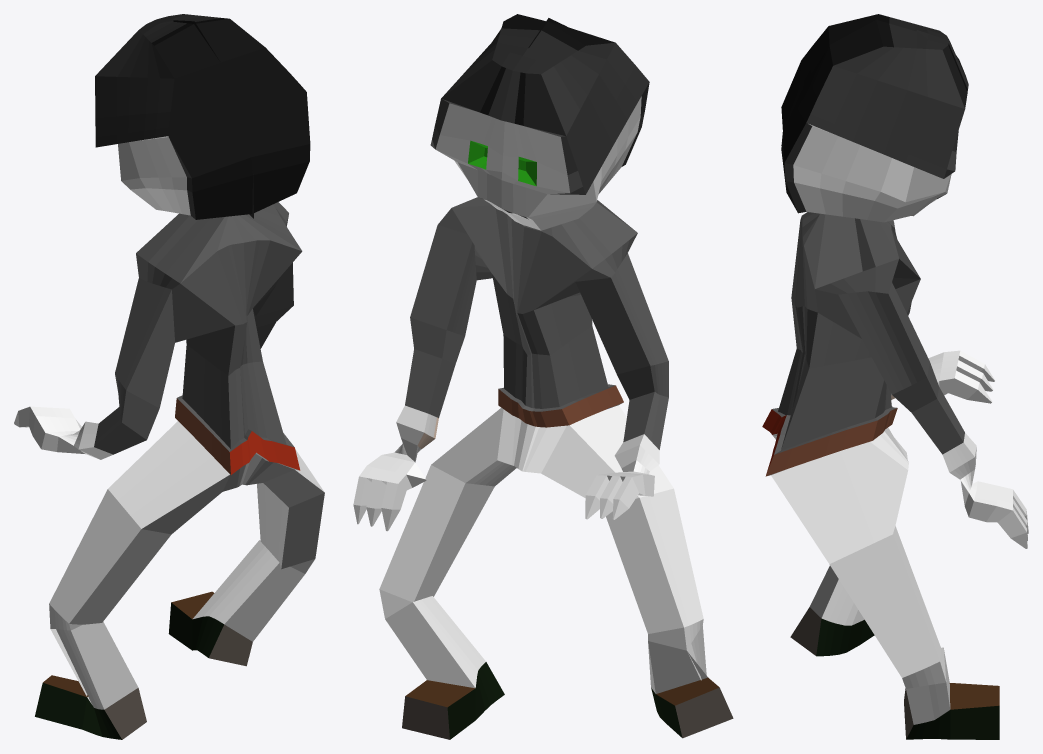
The model's file is zombie.gltf.
The picture shows the model from 3 angles, left to right: view 1: azimuth 30°, elevation 25°; view 2: azimuth 150°, elevation 25°; view 3: azimuth 270°, elevation 25°; orthographic projection. The views are drawn at different scales.
Parts seen in each view (by area): view 1: Zombie; view 2: Zombie; view 3: Zombie.
Part boxes in pixels (bbox=[...]): Zombie: bbox=[14, 14, 324, 739]; Zombie: bbox=[353, 14, 733, 739]; Zombie: bbox=[762, 14, 1028, 739].
Size of the model in its own units: 0.804 by 1.7 by 0.5955.
Materials: 1 (1 with a texture image).
